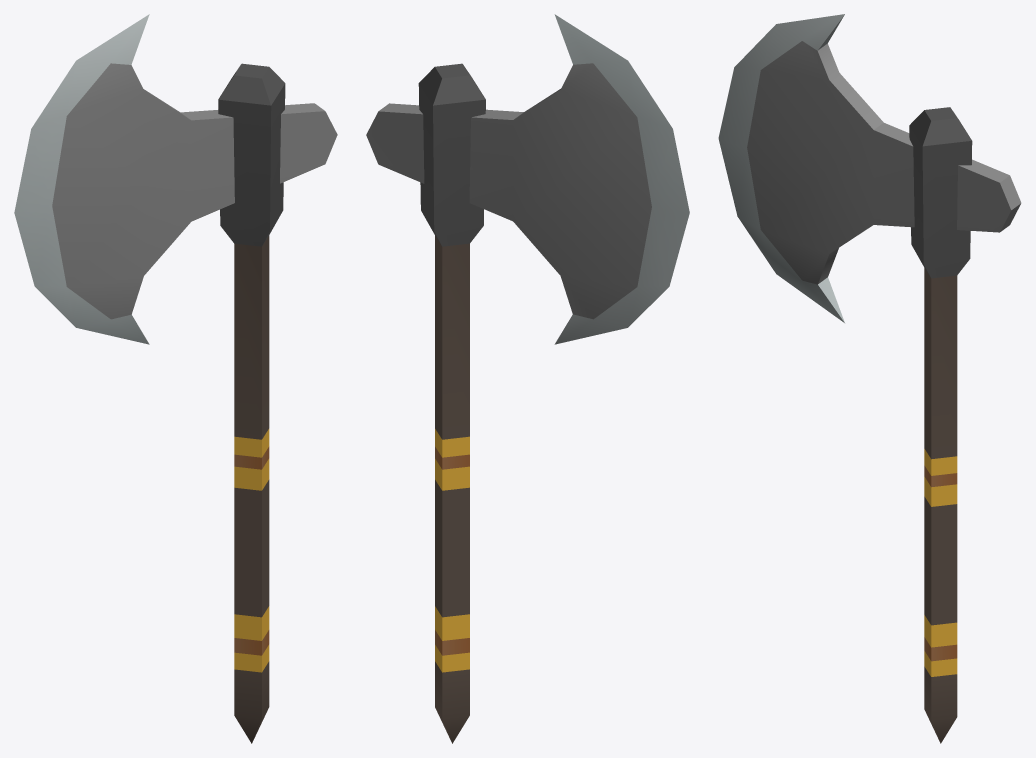
File: Axe_2.fbx
The picture shows the model from 3 angles, left to right: view 1: azimuth 30°, elevation 25°; view 2: azimuth 150°, elevation 25°; view 3: azimuth 330°, elevation 25°; orthographic projection. The views are drawn at different scales.
Parts seen in each view (by area): view 1: polySurface191; view 2: polySurface191; view 3: polySurface191.
Boxes of the visible parts, bbox=[...] form: polySurface191: bbox=[14, 14, 337, 743]; polySurface191: bbox=[366, 14, 689, 743]; polySurface191: bbox=[718, 14, 1021, 743].
Size of the model in its own units: 127 by 288 by 26.8.
